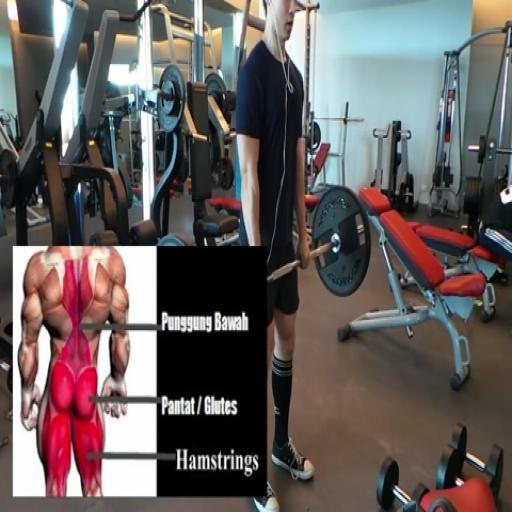exercise: (231, 0, 317, 511), (16, 243, 132, 499)
